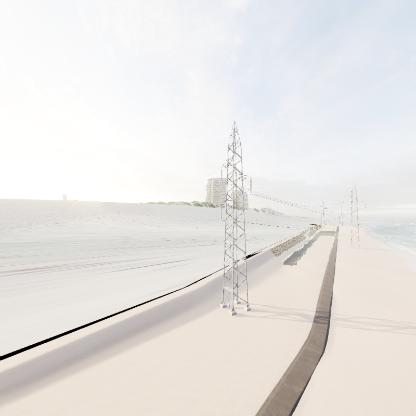tower: (209, 117, 260, 319)
